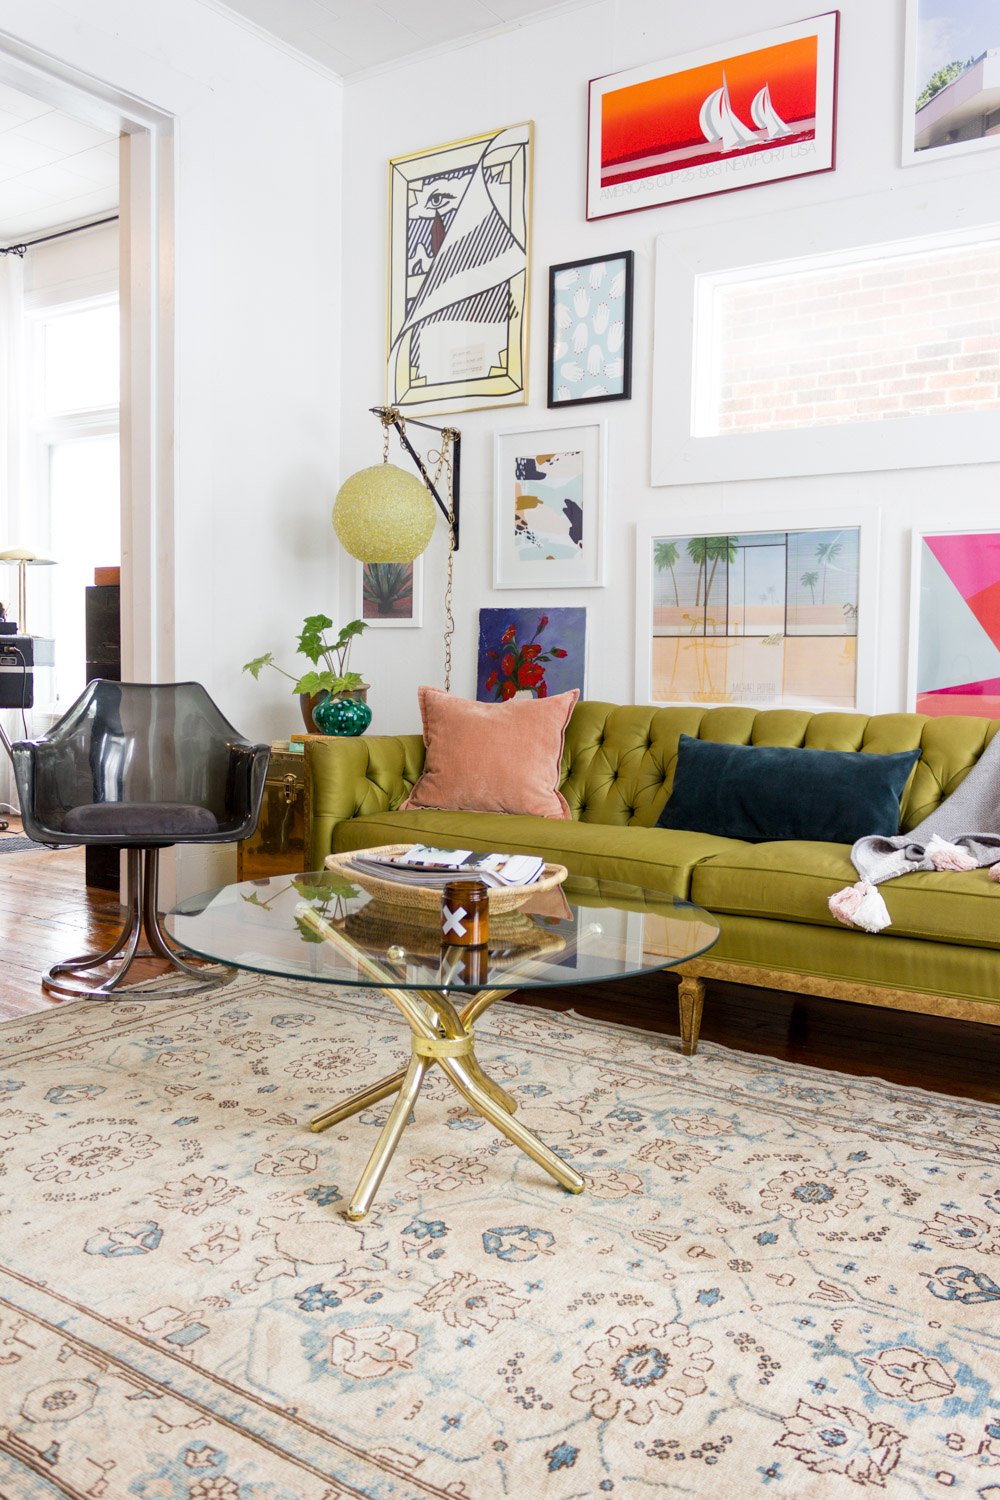coklat: (444, 879, 491, 951)
hijau: (570, 701, 1000, 972), (314, 693, 376, 738)
hitam: (23, 682, 268, 842), (679, 731, 905, 847)
pink: (423, 692, 562, 818)
